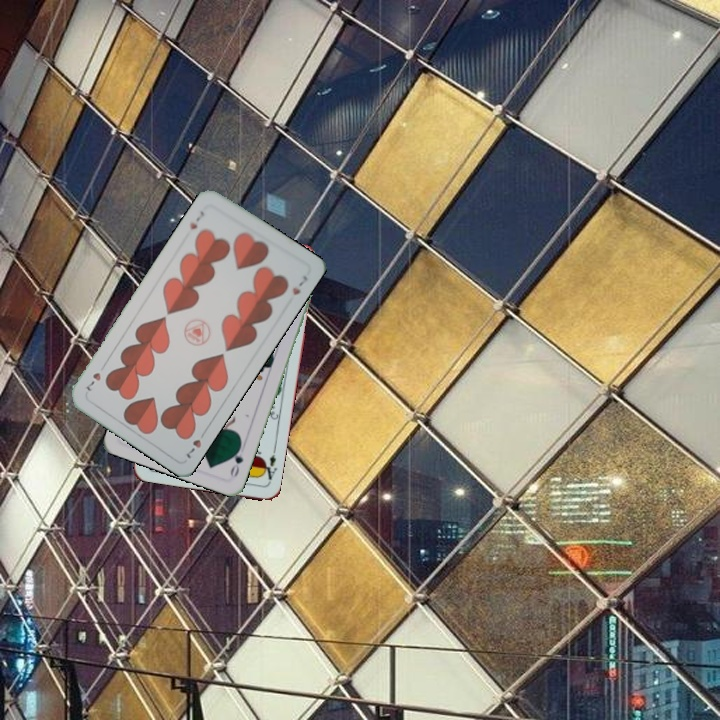EA: (258, 451, 279, 485)
GO: (226, 440, 246, 480)
H7: (182, 426, 209, 462), (185, 207, 207, 232)
